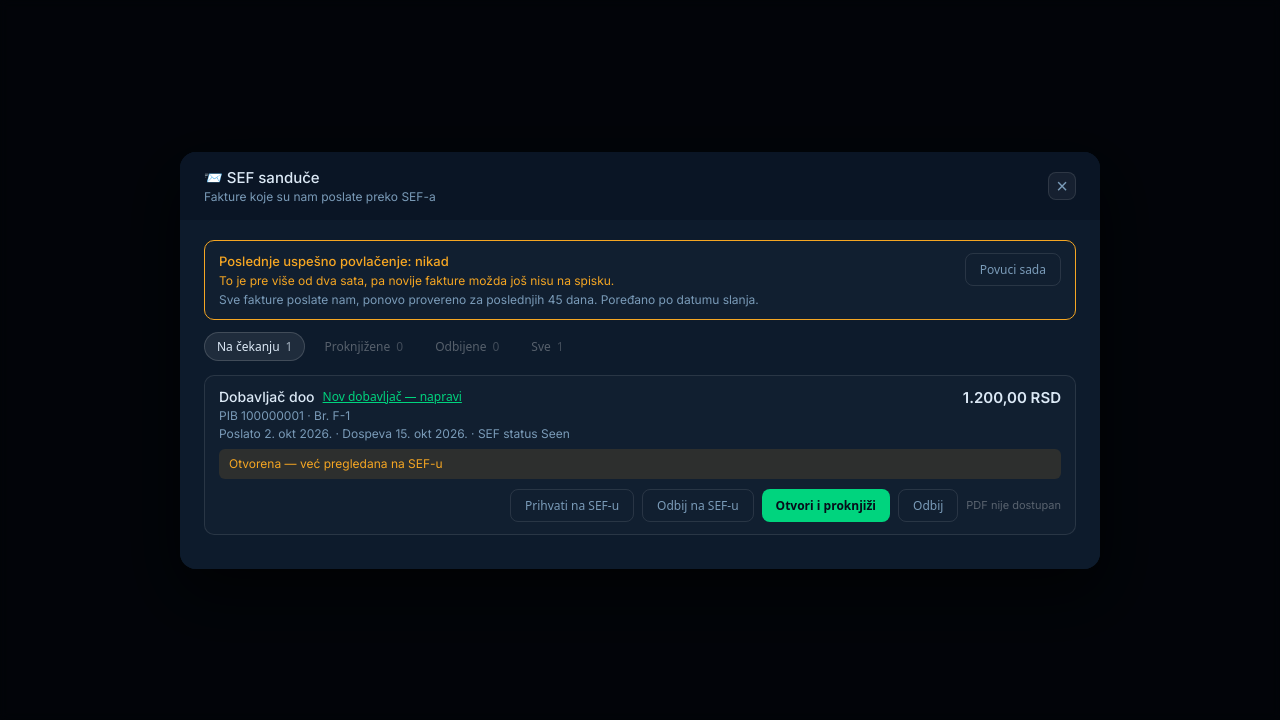
deciding on SEF from the inbox › says, before the click, that the decision goes to SEF and acceptance is final
Expected: the text "Dobavljač doo" is shown, [219,388,315,404]
Click the button "Prihvati na SEF-u": click(572, 505) [510,488,634,522]
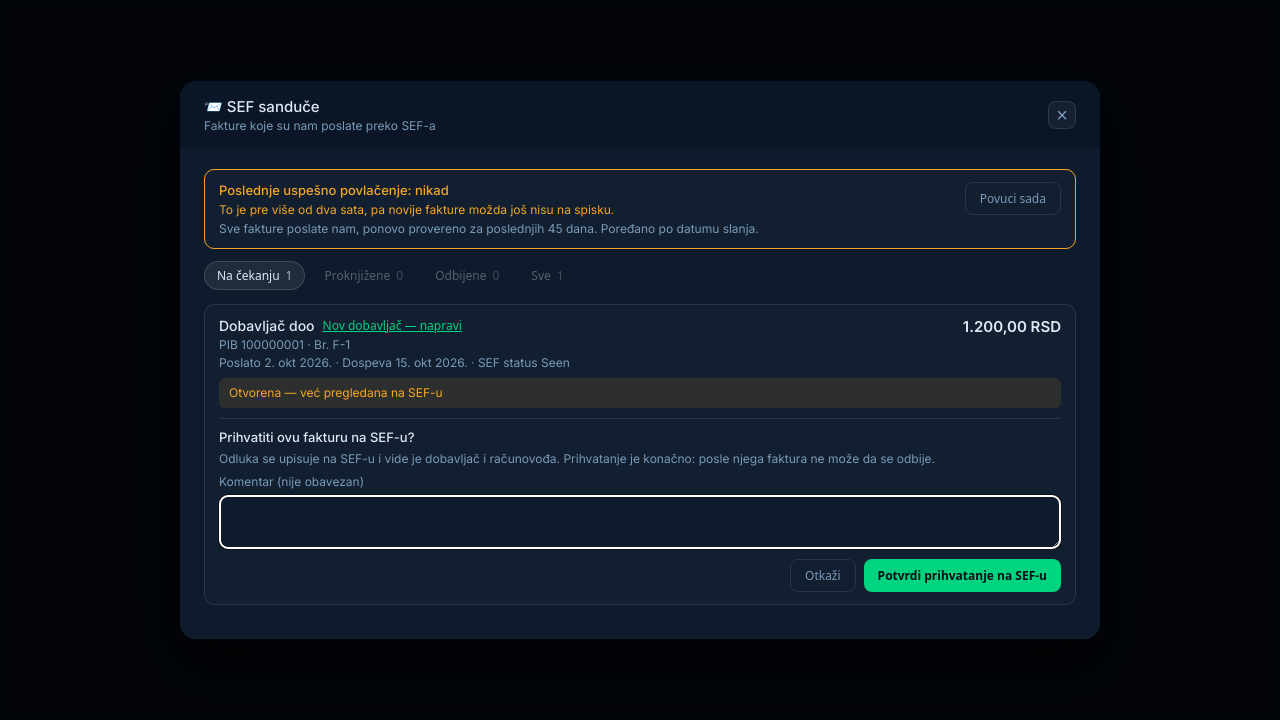
Expected: the text "Prihvatanje je konačno" is shown, [219,451,935,466]
